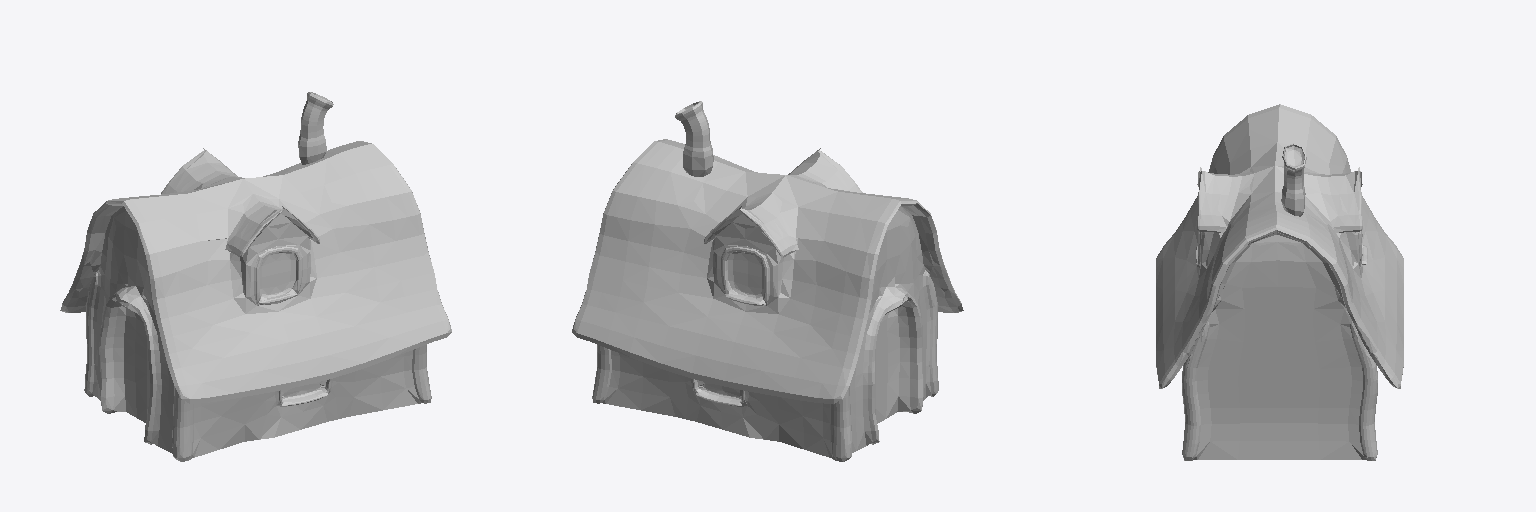
The model's file is cartoonmedhouse1_obj.obj.
The picture shows the model from 3 angles: view 1: azimuth 30°, elevation 25°; view 2: azimuth 150°, elevation 25°; view 3: azimuth 270°, elevation 25°; orthographic projection.
Visible parts, largest first — view 1: house1; view 2: house1; view 3: house1.
Part boxes in pixels (x1,y1,x2,y2): house1: (60,92,451,461); house1: (572,101,963,461); house1: (1156,104,1403,460).
Bounding box in the file's own units: 212 × 210 × 166.